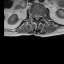CCS_normal: (36, 13, 38, 22)
LFS_stenosis: (40, 14, 42, 19)
LLS_normal: (38, 14, 40, 20)
RFS_normal: (32, 14, 34, 19)
RLS_normal: (34, 14, 36, 20)
